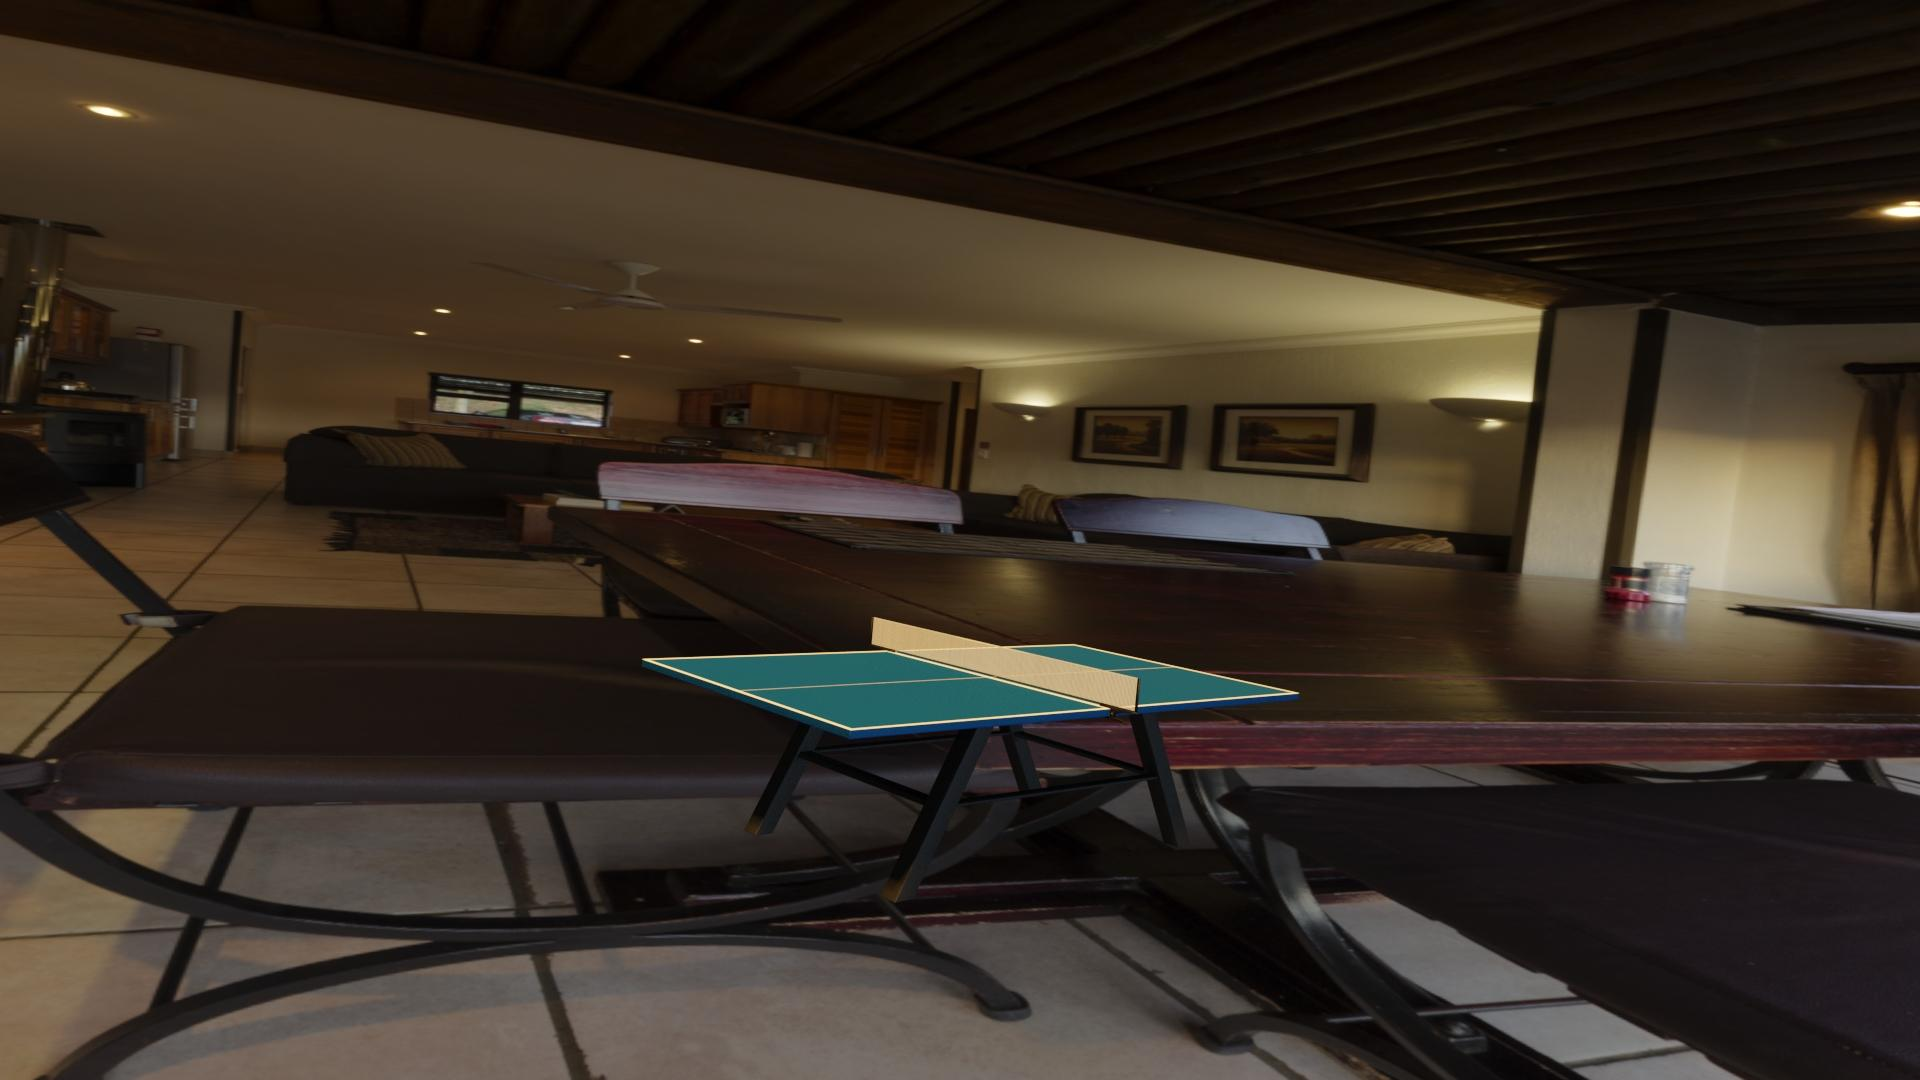table: (649, 645, 1294, 729)
